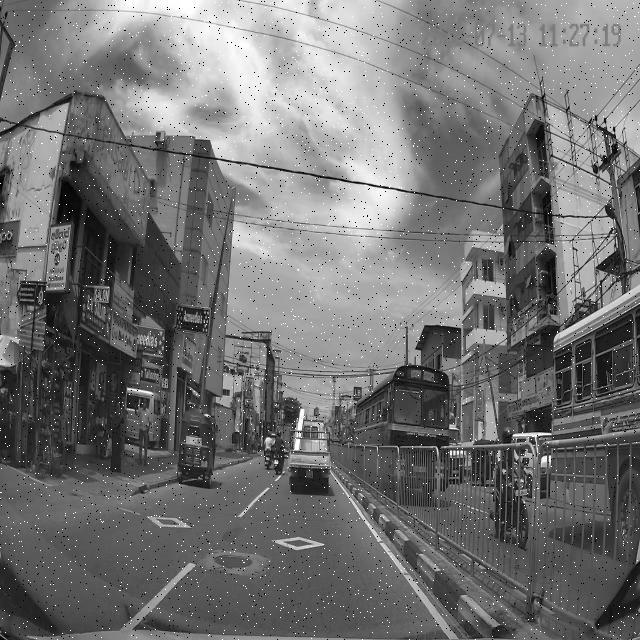diamond: (167, 511, 416, 576)
